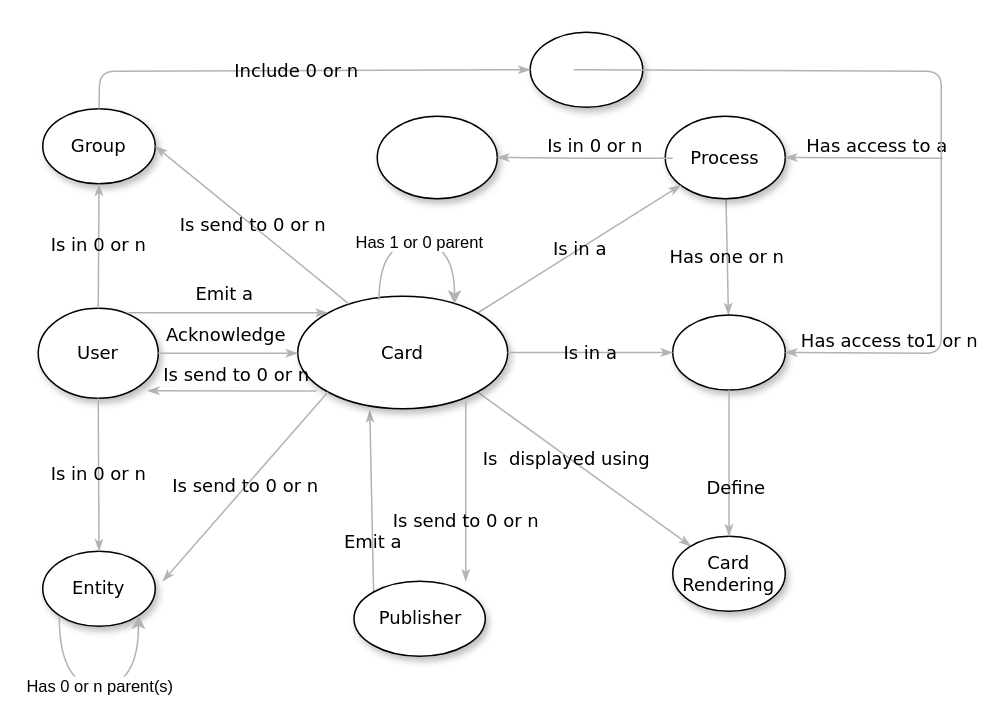
The diagram is 1004 pixels wide and 722 high, and some of its shapes have lost their labels. Each missing label, with the centre of its shape:
Perimeter: point 587,71
Process Group: point 438,159
State: point 729,354
